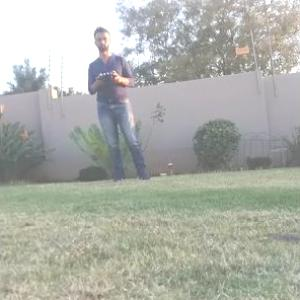follow: (84, 21, 157, 184)
